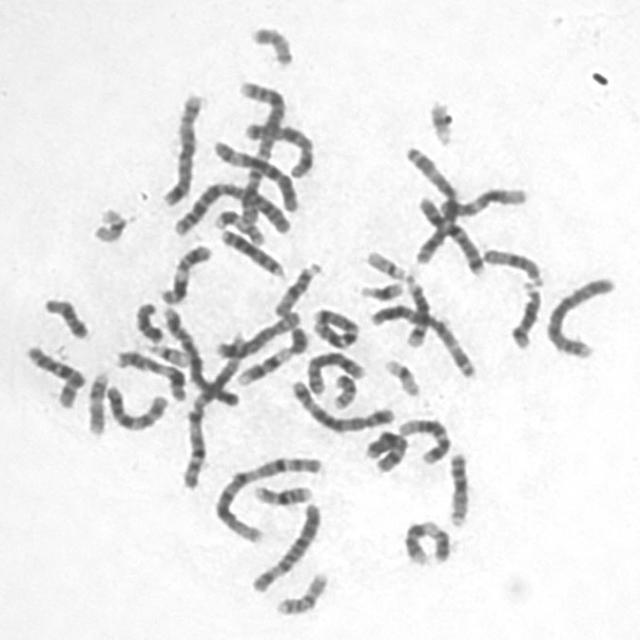A1: (175, 325, 249, 491), (208, 449, 324, 545)
A2: (229, 72, 291, 231), (165, 174, 296, 238)
A3: (364, 297, 478, 380), (400, 140, 463, 268)
B4: (155, 300, 243, 409), (539, 270, 618, 360)
B5: (284, 374, 396, 434), (155, 85, 205, 208)
C10: (18, 339, 87, 410), (100, 378, 170, 433)
C11: (110, 344, 188, 403), (154, 238, 214, 306)
C12: (434, 181, 530, 219), (392, 412, 452, 466)
C6: (244, 497, 324, 594), (208, 133, 302, 213)
C7: (415, 194, 487, 278), (306, 301, 362, 350)
C8: (210, 305, 304, 360), (301, 344, 368, 396)
C9: (230, 321, 309, 387), (398, 514, 453, 567)
D13: (215, 224, 286, 279), (441, 444, 472, 530)
D14: (504, 274, 545, 350), (399, 270, 433, 349)
D15: (268, 255, 324, 318), (476, 241, 547, 288)
E16: (270, 566, 330, 617), (247, 478, 315, 507)
E17: (210, 203, 267, 246), (80, 366, 110, 437)
E18: (36, 290, 91, 340), (128, 296, 166, 344)
F19: (379, 352, 423, 398), (86, 200, 129, 246)
F20: (244, 19, 296, 68), (327, 369, 359, 411)
G21: (422, 92, 458, 147), (354, 275, 407, 302)
G22: (359, 244, 410, 280), (143, 337, 192, 369)
X: (240, 116, 316, 180), (358, 424, 410, 474)
Y: (283, 322, 310, 356)
